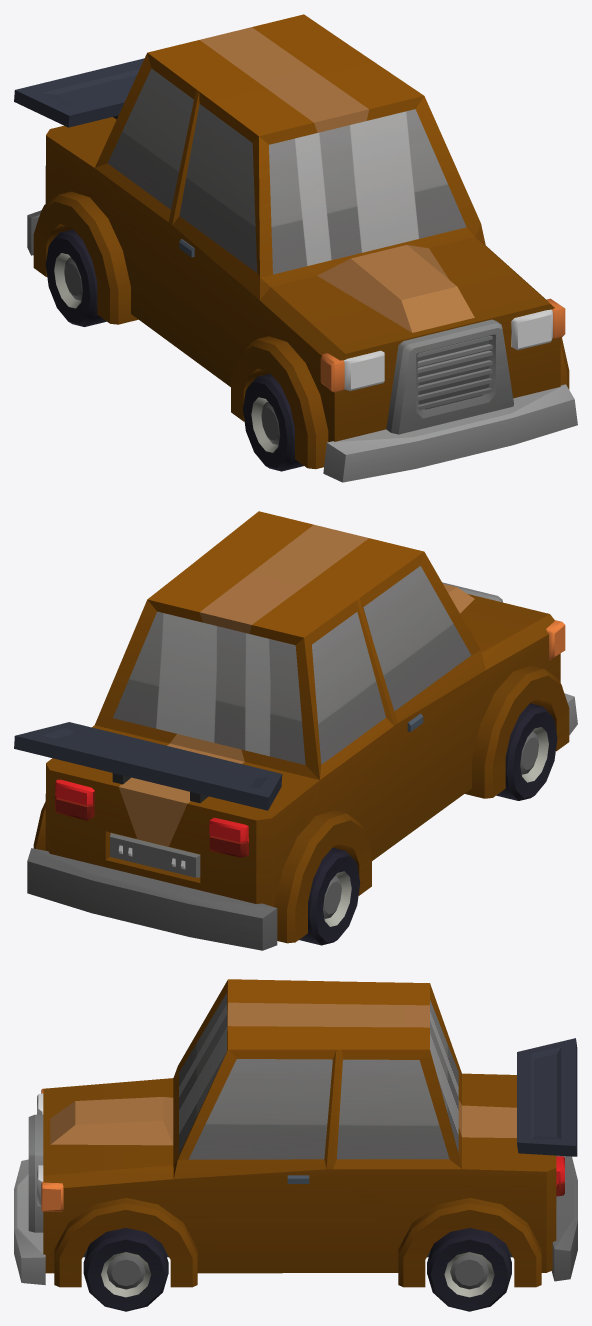
The model's file is SportCar_3.glb.
3 views of the same model, one above another, from view 1: azimuth 30°, elevation 25°; view 2: azimuth 150°, elevation 25°; view 3: azimuth 270°, elevation 25° (orthographic). The views are drawn at different scales.
Visible parts, largest first — view 1: SportCar_3, Wheel_fr, Wheel_br; view 2: SportCar_3, Wheel_br, Wheel_fr; view 3: SportCar_3, Wheel_fl, Wheel_bl.
Part boxes in pixels (x1,y1,x2,y2): SportCar_3: [14, 14, 577, 482]; Wheel_fr: [243, 373, 303, 471]; Wheel_br: [45, 229, 106, 326]; SportCar_3: [14, 511, 577, 950]; Wheel_br: [299, 847, 360, 945]; Wheel_fr: [496, 703, 557, 800]; SportCar_3: [14, 979, 577, 1287]; Wheel_fl: [83, 1228, 168, 1311]; Wheel_bl: [427, 1228, 511, 1311].
Size of the model in its own units: 1.12 by 1.1 by 2.33.
Materials: 7 (7 with a texture image).
